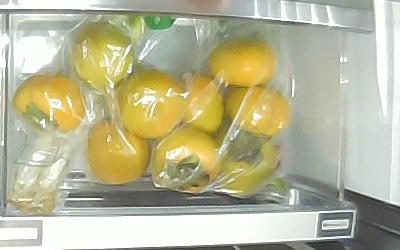persimmon_vinyl: (115, 70, 186, 138), (152, 125, 220, 193), (87, 117, 153, 185), (13, 74, 85, 134), (71, 23, 136, 89), (216, 133, 279, 197), (207, 37, 278, 90), (226, 87, 291, 137), (181, 74, 224, 133)
